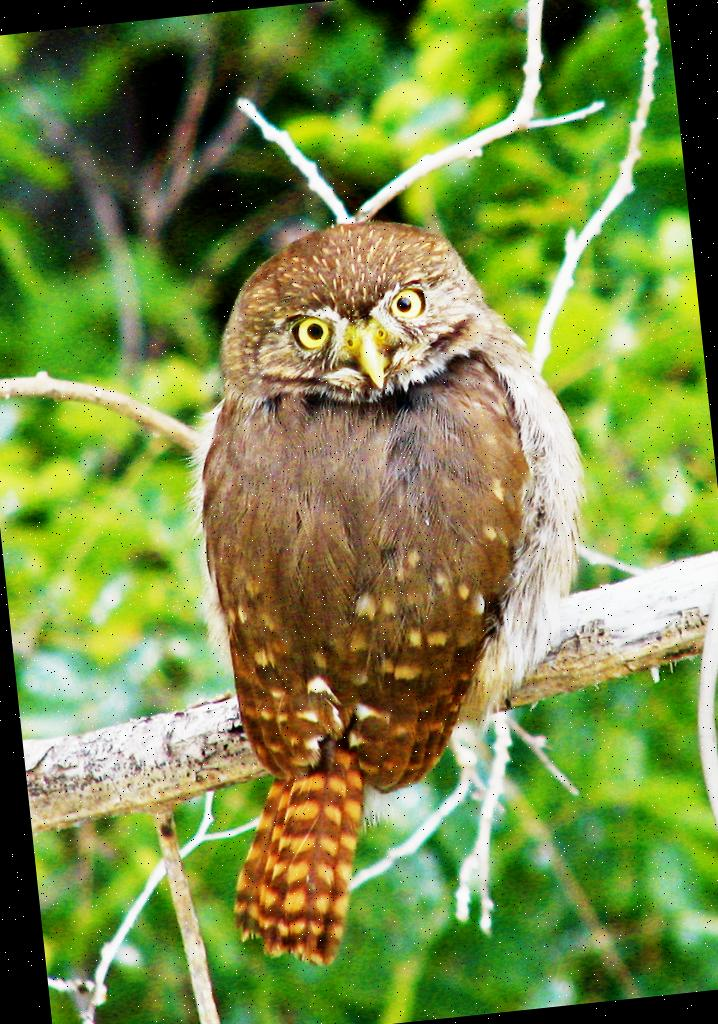Owl: (155, 200, 634, 978)
